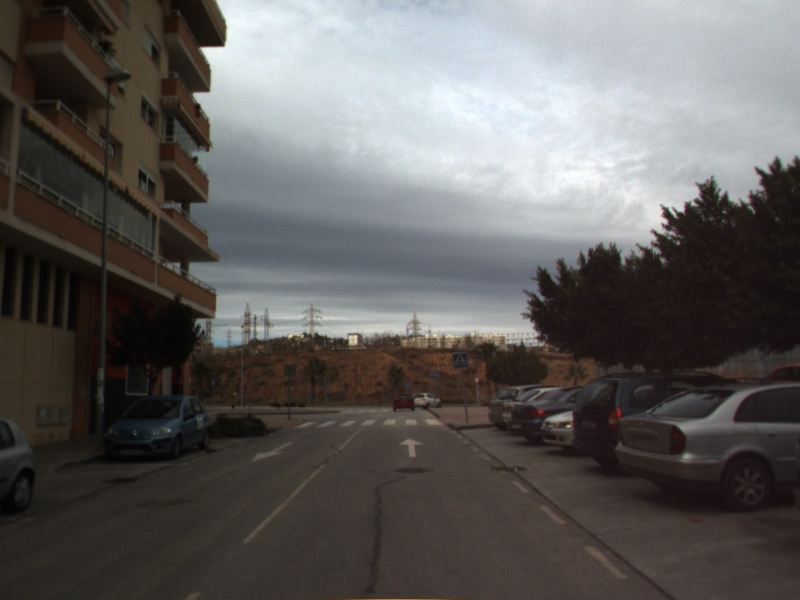STRAIGHT: (397, 436, 426, 459)
